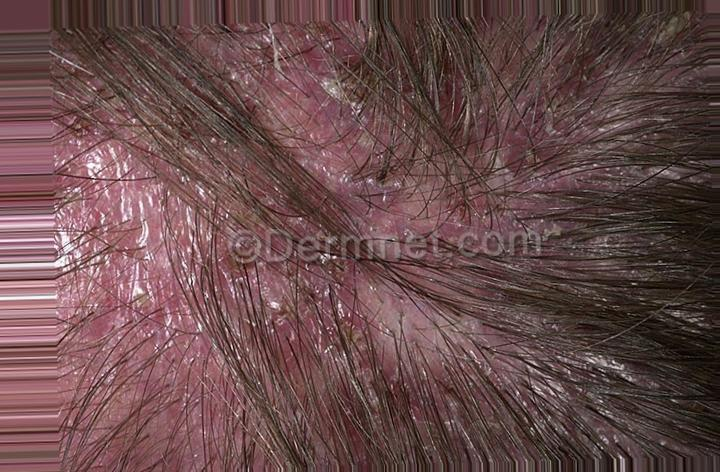Folliculitis: (280, 70, 565, 209)
